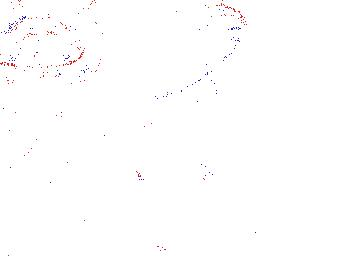moon jellyfish: (134, 4, 246, 98), (28, 7, 104, 83), (130, 121, 204, 195), (1, 13, 84, 68), (1, 79, 41, 173)
